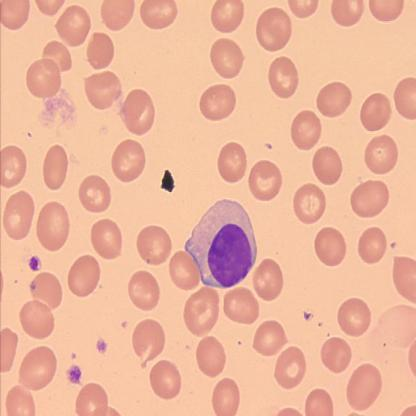Atypical lymphocyte: (185, 196, 256, 290)
